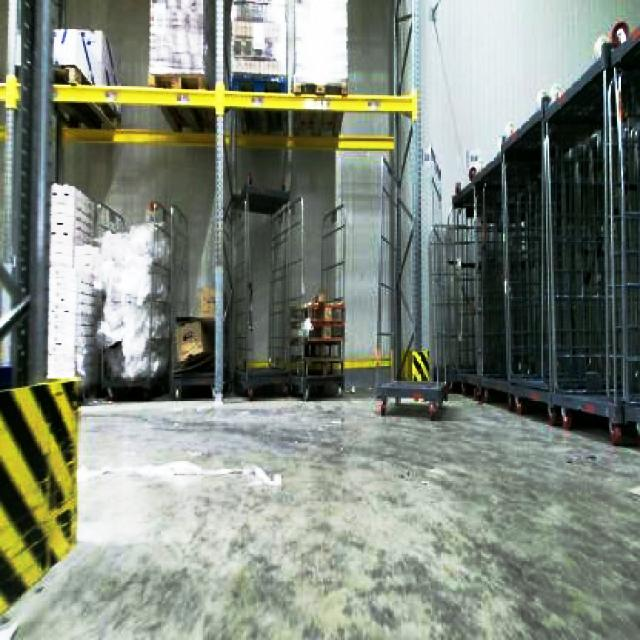ground: (0, 385, 638, 638)
pallet: (431, 11, 638, 457), (0, 69, 418, 149), (0, 374, 82, 638), (45, 180, 125, 400), (223, 186, 305, 397), (291, 295, 345, 398), (169, 315, 215, 398), (374, 378, 448, 418)
